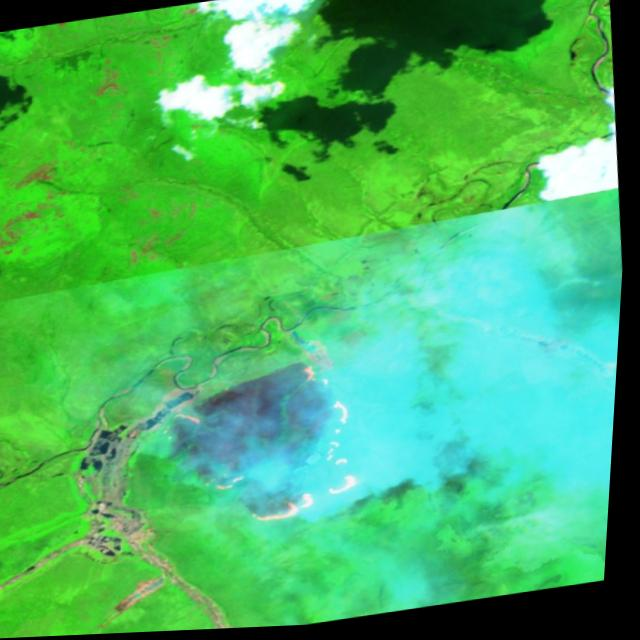fire: (154, 351, 382, 539)
